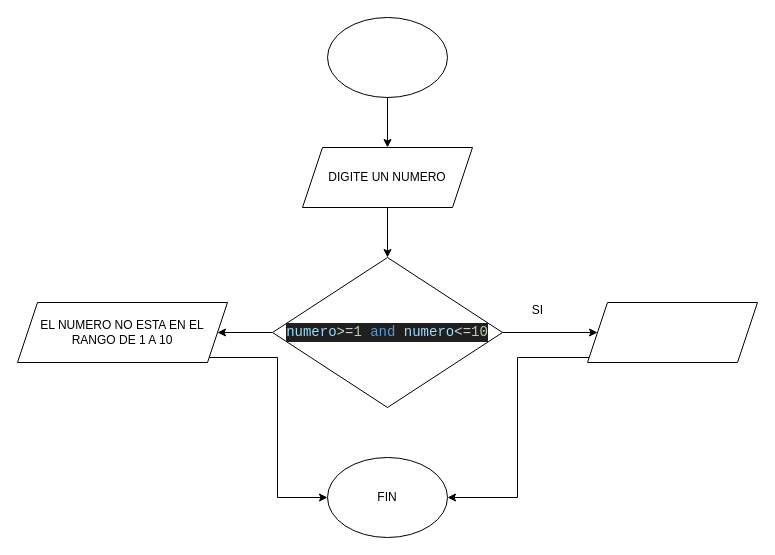
This 775x555 diagram has some shape labels left out. Each missing label, with the centre of its shape:
"EL NUMERO ESTA EN EL RANGO DE 1 A 10" goes at pixel 672 332.
"INICIO" goes at pixel 387 57.
